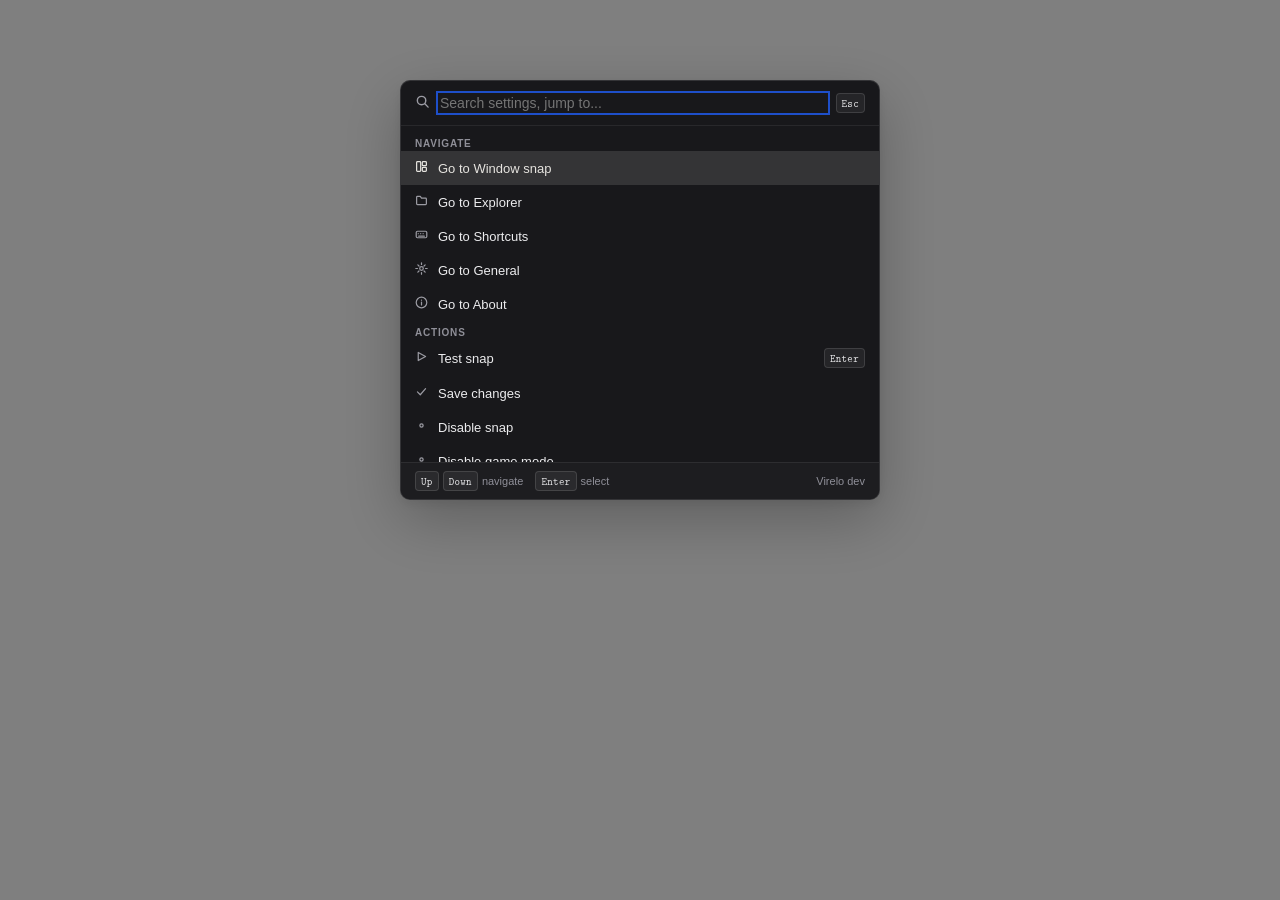
CommandPalette › Filters commands when typing a search query.
In the dropdown named "Search commands": {"x": 633, "y": 103} [440,95,826,111], type "snap"
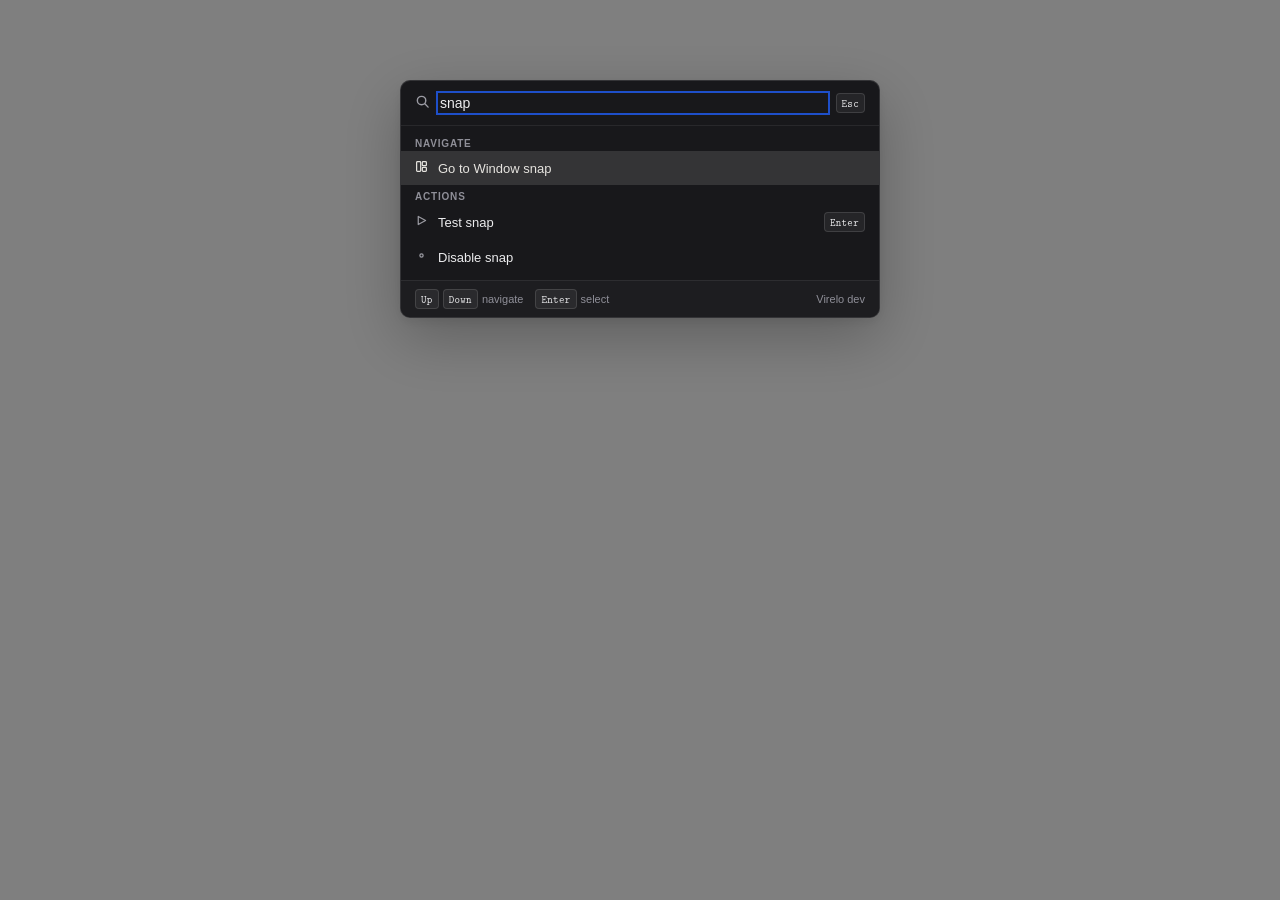
Expected: the option "Test snap Enter" is shown, [415,212,865,232]
Expected: the option "Go to Explorer" is gone
Expected: the option "Go to About" is gone
